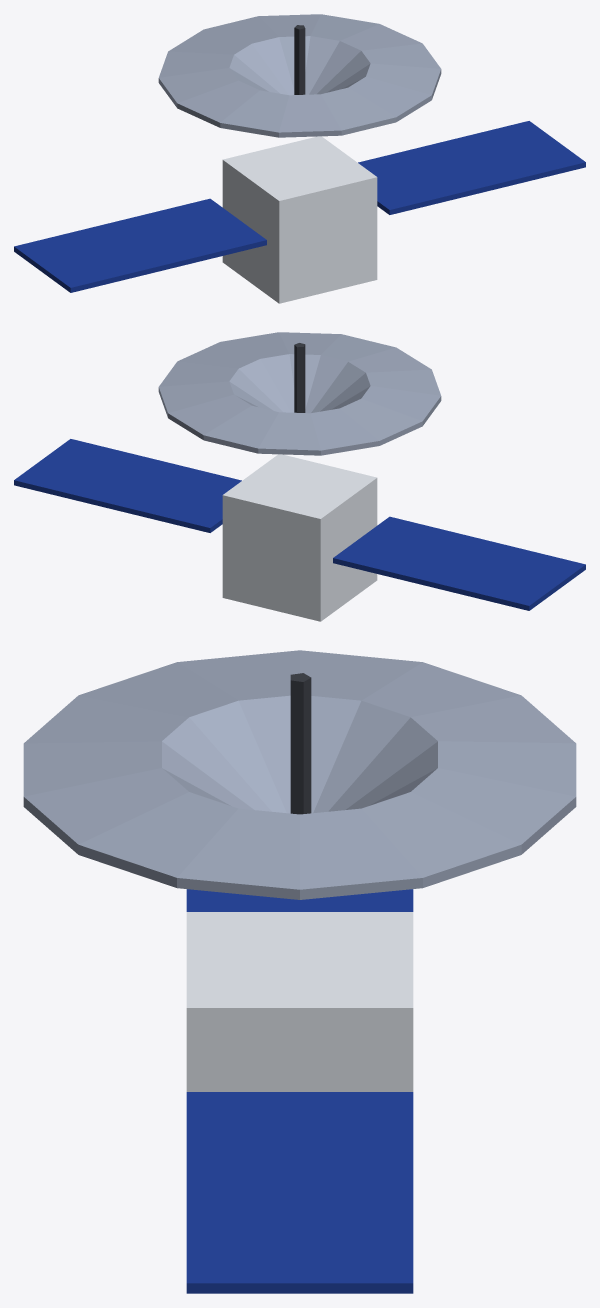
Rendered from lowpoly-satellite_dish.glb.
The picture shows the model from 3 angles, top to bottom: view 1: azimuth 30°, elevation 25°; view 2: azimuth 150°, elevation 25°; view 3: azimuth 270°, elevation 25°; orthographic projection. The views are drawn at different scales.
Parts seen in each view (by area): view 1: satellite_dish; view 2: satellite_dish; view 3: satellite_dish.
Boxes of the visible parts, x1=… form: satellite_dish: x1=14, y1=14, x2=585, y2=303; satellite_dish: x1=14, y1=332, x2=585, y2=621; satellite_dish: x1=23, y1=650, x2=576, y2=1293.
Size of the model in its own units: 4.2 by 1.9 by 1.95.
